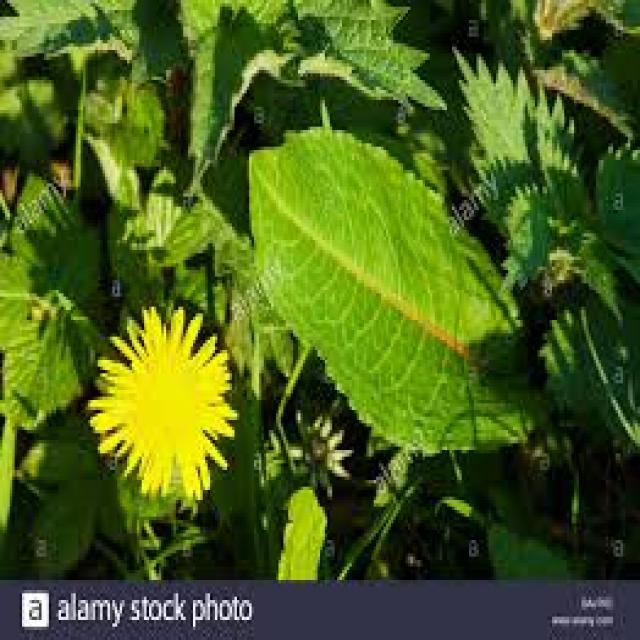organic waste: (193, 100, 630, 477)
